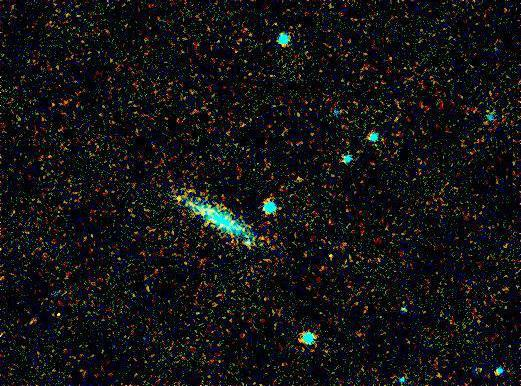star: (314, 244, 344, 274)
